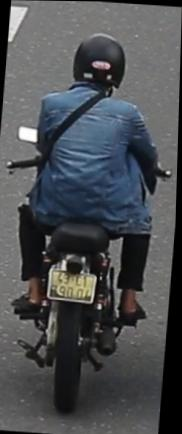LP: (47, 268, 101, 307)
helmet: (70, 28, 132, 95)
